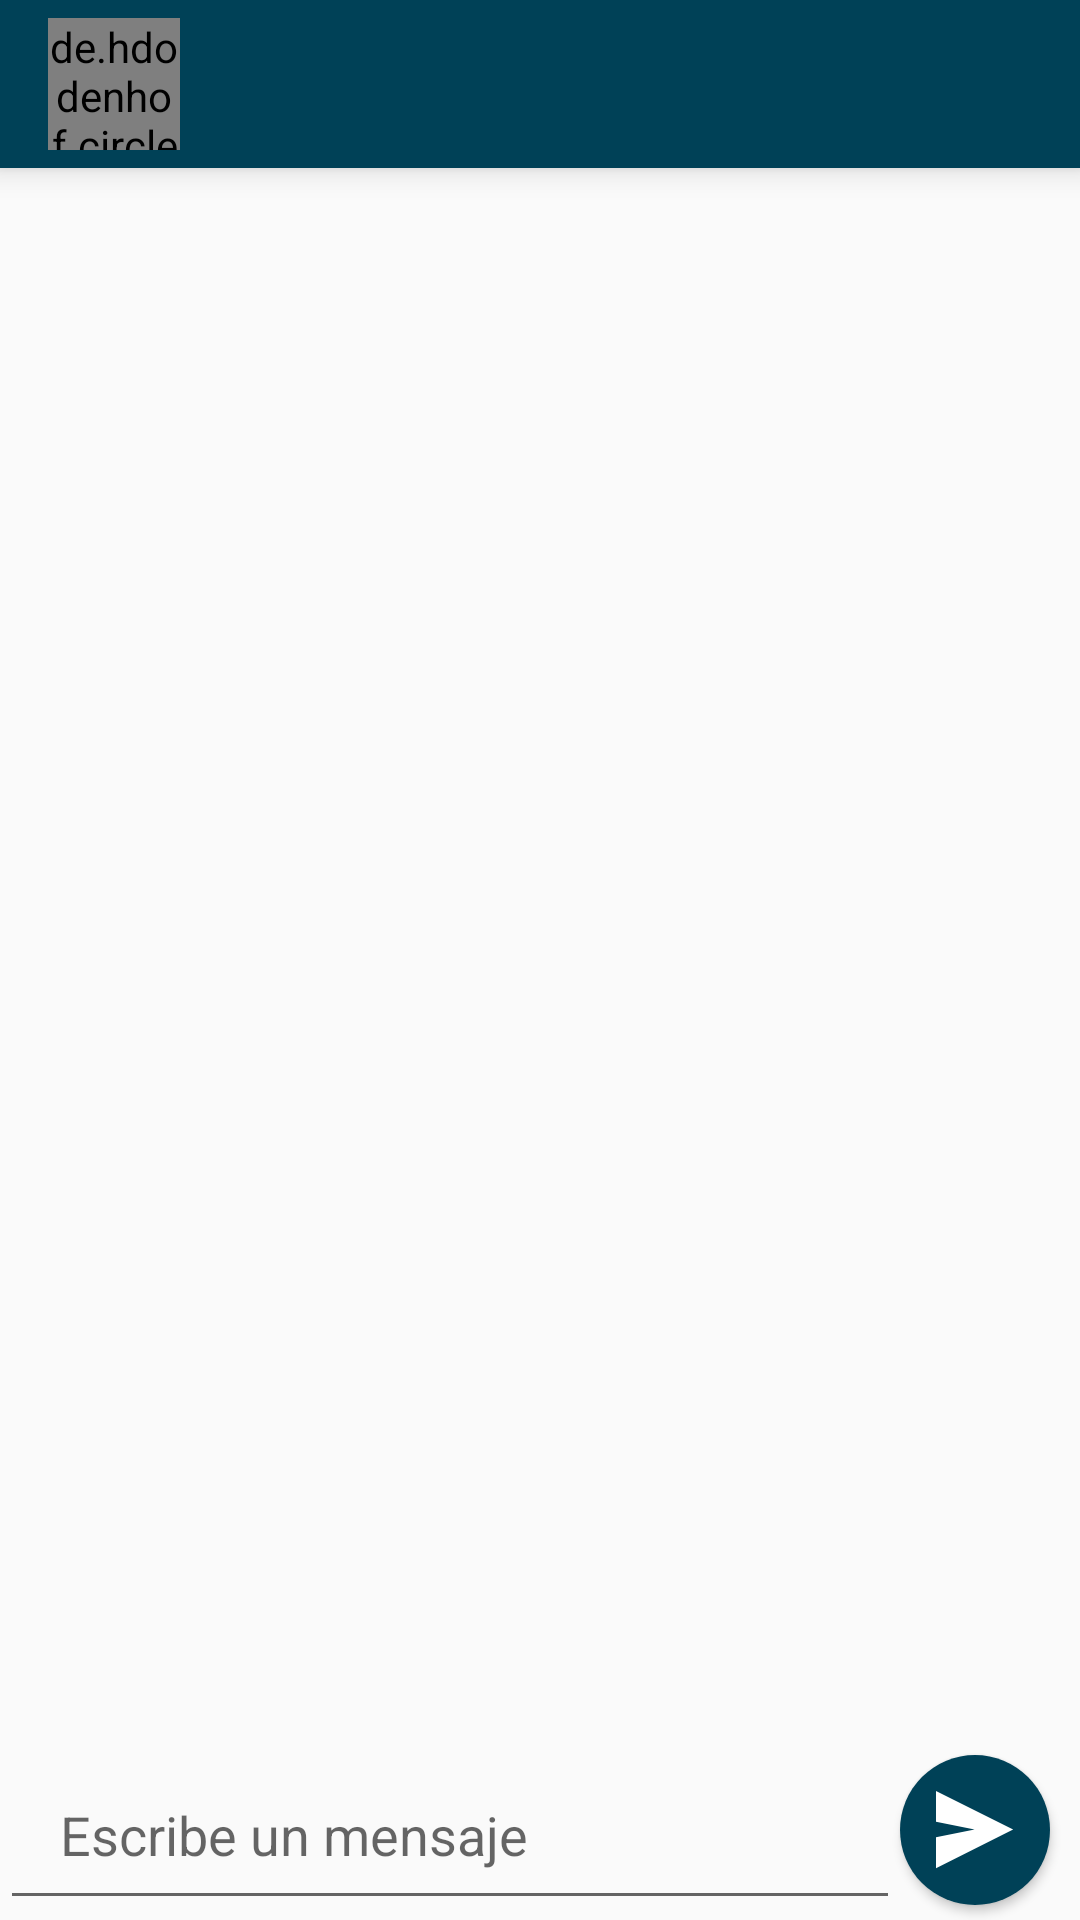

Screen size 1080 × 1920. Icon name, then its center in pixels as (x=x, y=y):
chat enviar: (x=975, y=1830)
